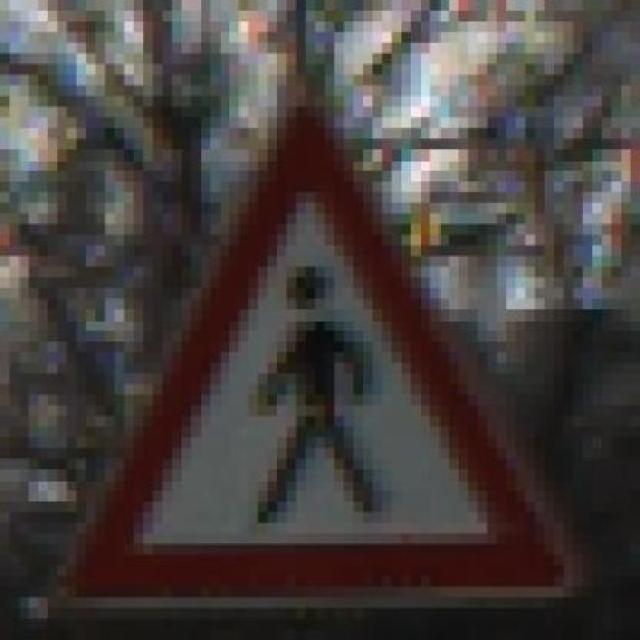Pedestrian Crossing: (66, 86, 583, 620)
